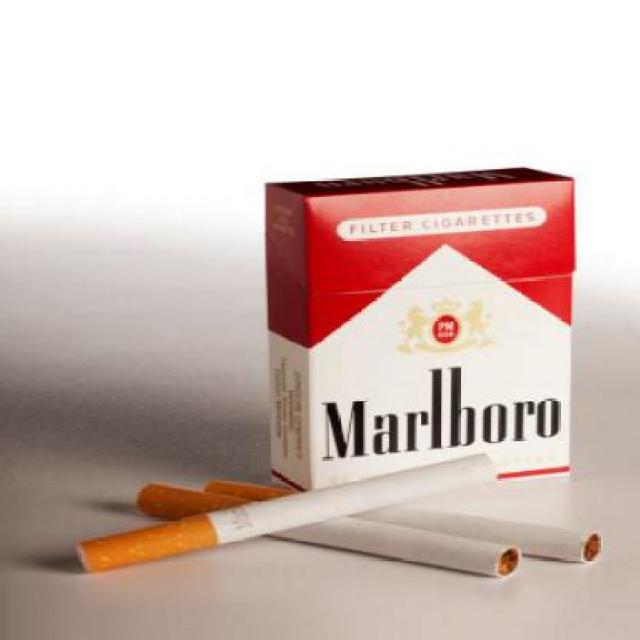cigarette: (68, 448, 506, 582), (127, 482, 524, 586), (203, 474, 609, 571)
